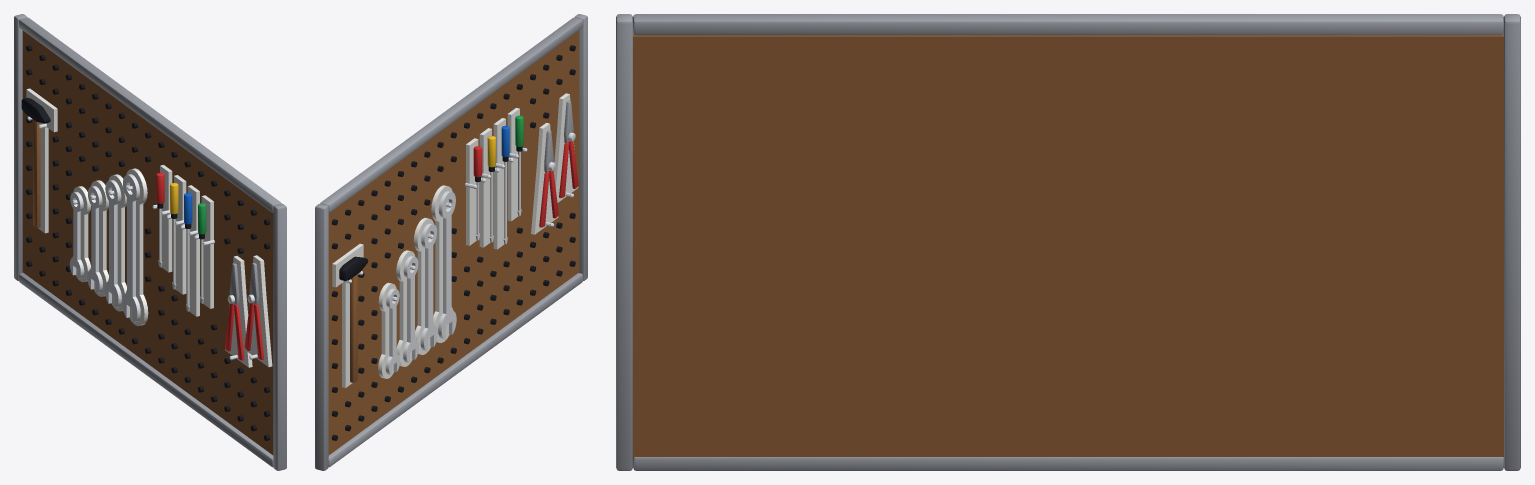
The model's file is G_Pegboard.fbx.
3 renders of one model, left to right at view 1: azimuth 30°, elevation 25°; view 2: azimuth 150°, elevation 25°; view 3: azimuth 270°, elevation 25°, orthographic. The views are drawn at different scales.
Visible parts, largest first — view 1: Wood.001, Metal.002, White, Chrome.002, Dark.002, Red.001; view 2: Wood.001, Metal.002, White, Chrome.002, Dark.002, Red.001; view 3: Wood.001, Metal.002.
Part boxes in pixels (box(x1,y1,x2,y2)): Wood.001: box(22, 30, 273, 455); Metal.002: box(14, 14, 286, 470); White: box(26, 88, 272, 367); Chrome.002: box(27, 116, 257, 360); Dark.002: box(21, 45, 270, 440); Red.001: box(156, 172, 264, 360); Wood.001: box(328, 30, 579, 455); Metal.002: box(315, 14, 587, 470); White: box(332, 93, 578, 387); Chrome.002: box(343, 132, 575, 375); Dark.002: box(331, 45, 575, 440); Red.001: box(473, 141, 578, 227); Wood.001: box(633, 32, 1503, 456); Metal.002: box(616, 14, 1520, 470).
Size of the model in its own units: 0.3 by 4.4 by 8.
